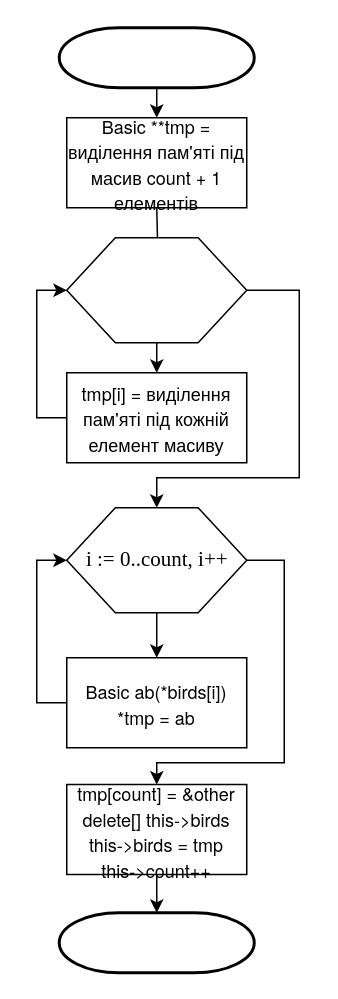
Some shapes in this 338 by 999 pixel diagram are drawn without their labels. Each missing label, with the centre of its shape:
"AddBird (Basic &other)" goes at [156,57].
"i := 0..count+1, i++" goes at [156,289].
"Кінець" goes at [156,942].
